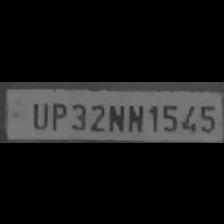1: (145, 100, 159, 132)
2: (88, 100, 106, 132)
3: (67, 99, 87, 130)
4: (178, 100, 198, 132)
5: (158, 100, 178, 132), (196, 101, 216, 133)
N: (105, 100, 125, 132), (125, 100, 144, 132)
P: (47, 98, 66, 130)
U: (26, 98, 48, 128)
